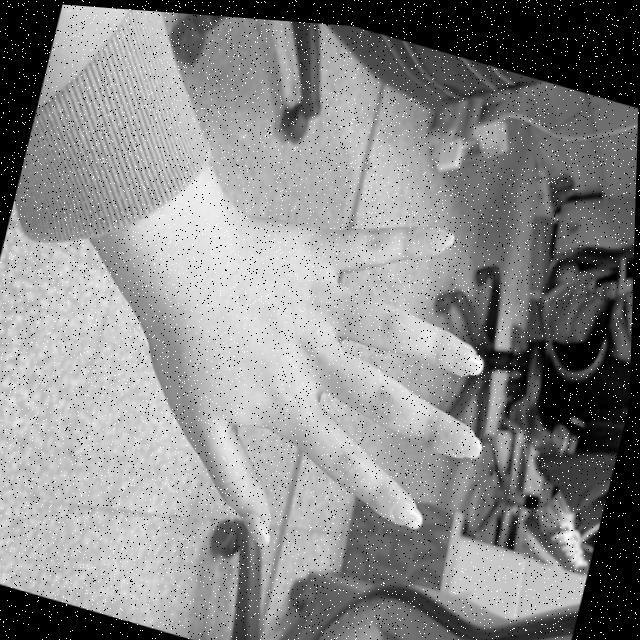no-gloves: (133, 152, 540, 598)
